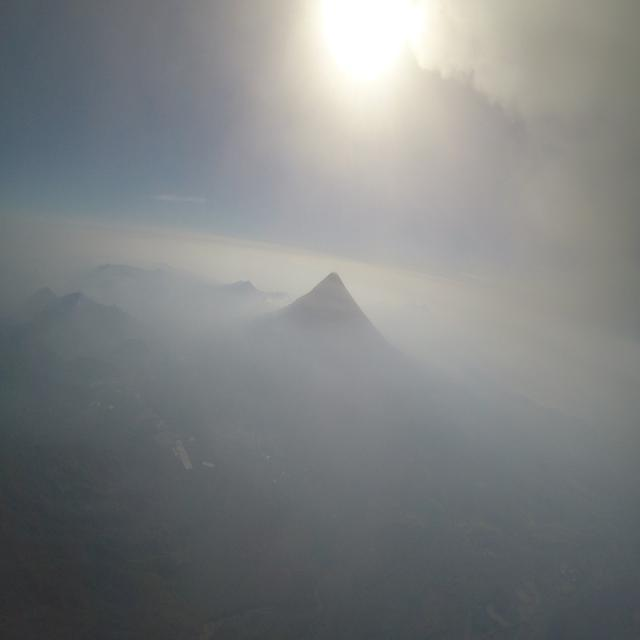Plume: (217, 5, 640, 342)
